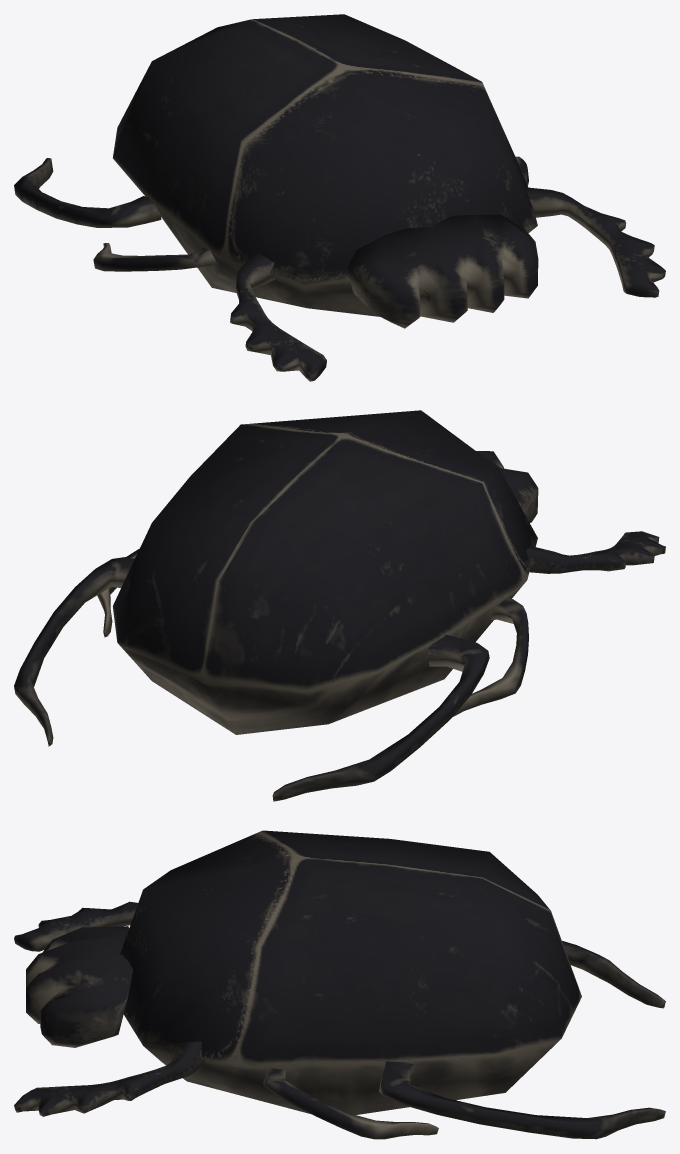
The model's file is Scarab_Model.fbx.
3 renders of one model, top to bottom at view 1: azimuth 30°, elevation 25°; view 2: azimuth 150°, elevation 25°; view 3: azimuth 270°, elevation 25°, orthographic.
Parts seen in each view (by area): view 1: Scarab_Model; view 2: Scarab_Model; view 3: Scarab_Model.
Boxes of the visible parts, x1,y1,x2,y2 form: Scarab_Model: (14,14,665,381); Scarab_Model: (14,410,665,801); Scarab_Model: (14,830,665,1139).
Bounding box in the file's own units: 6.7 × 3.62 × 8.97.
